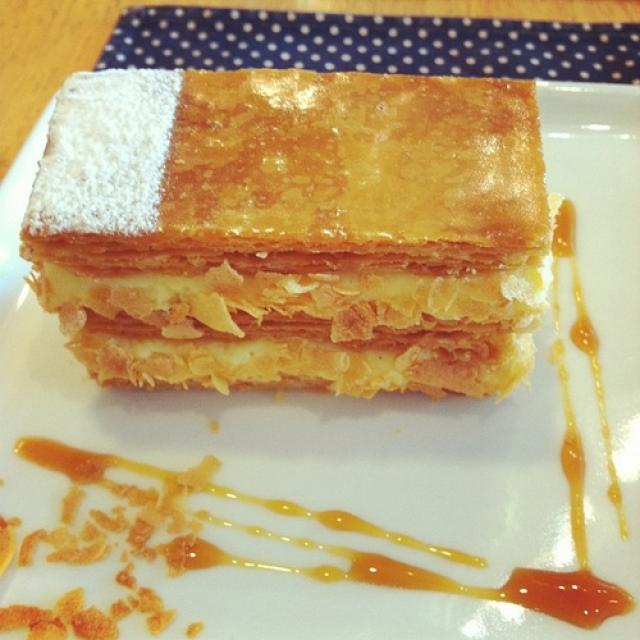蛋糕甜品: (18, 45, 584, 429)
